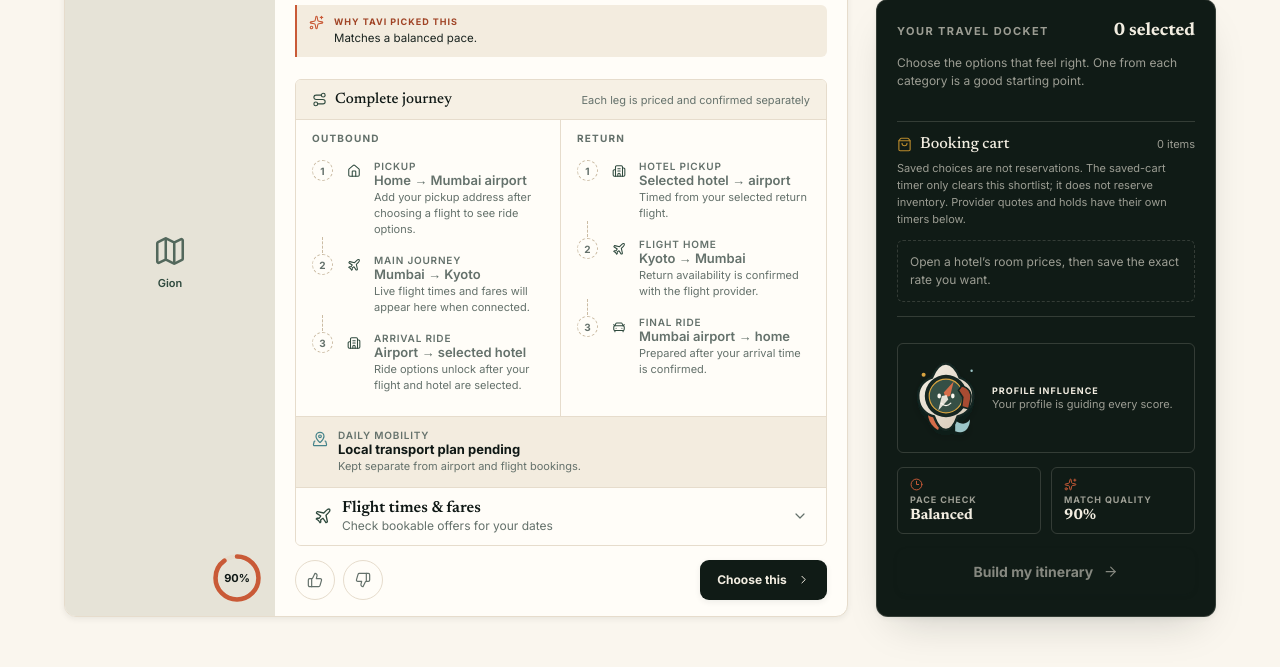
Test: selects an exact flight without also creating a generic transport cart item
The width and height of the screenshot is (1280, 667).
(page scrolled)
Click the button "Flight times & fares Check bookable offers for your dates" at (411, 508), box 296,488 -> 826,545
(page scrolled)
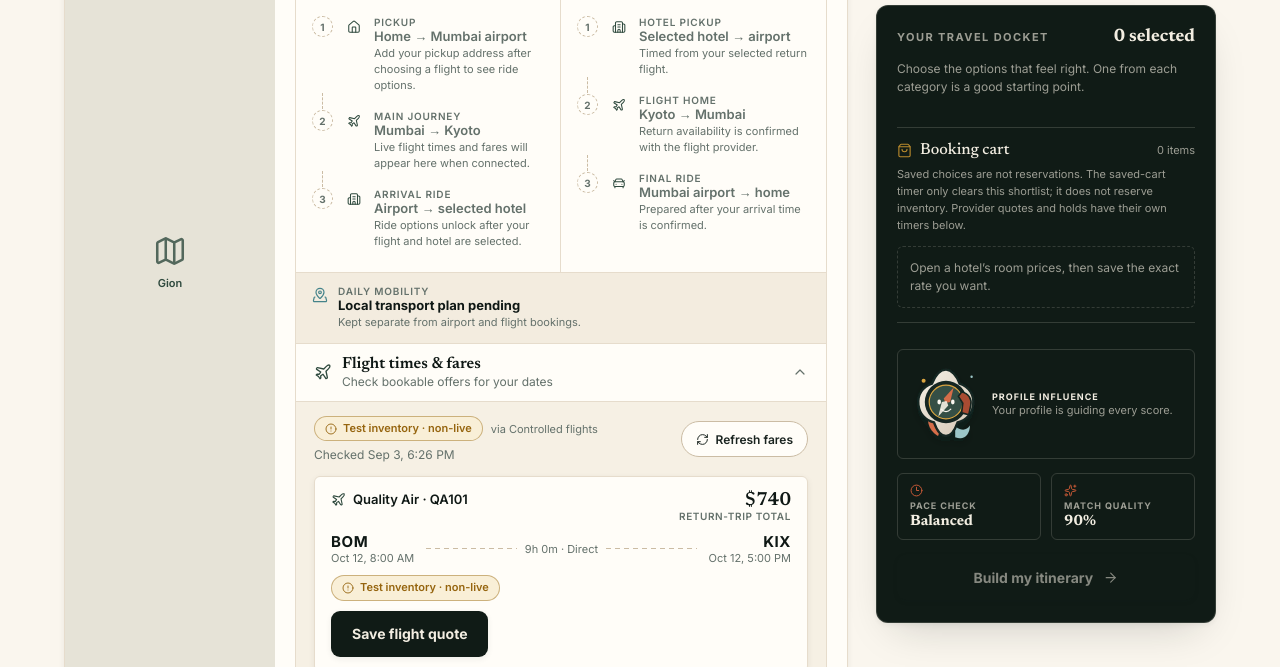
Click the button "Save flight quote" at (410, 634), box 331,611 -> 488,657
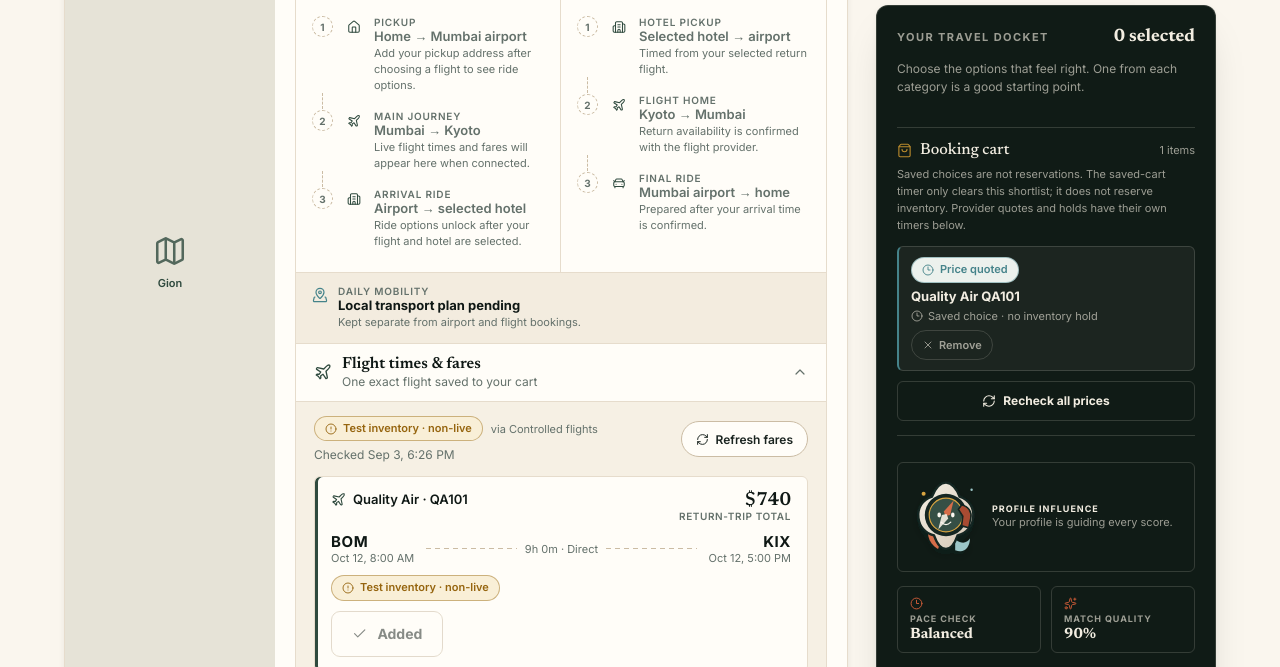
Expected: the button "Added" is disabled, 331,611 -> 443,657
